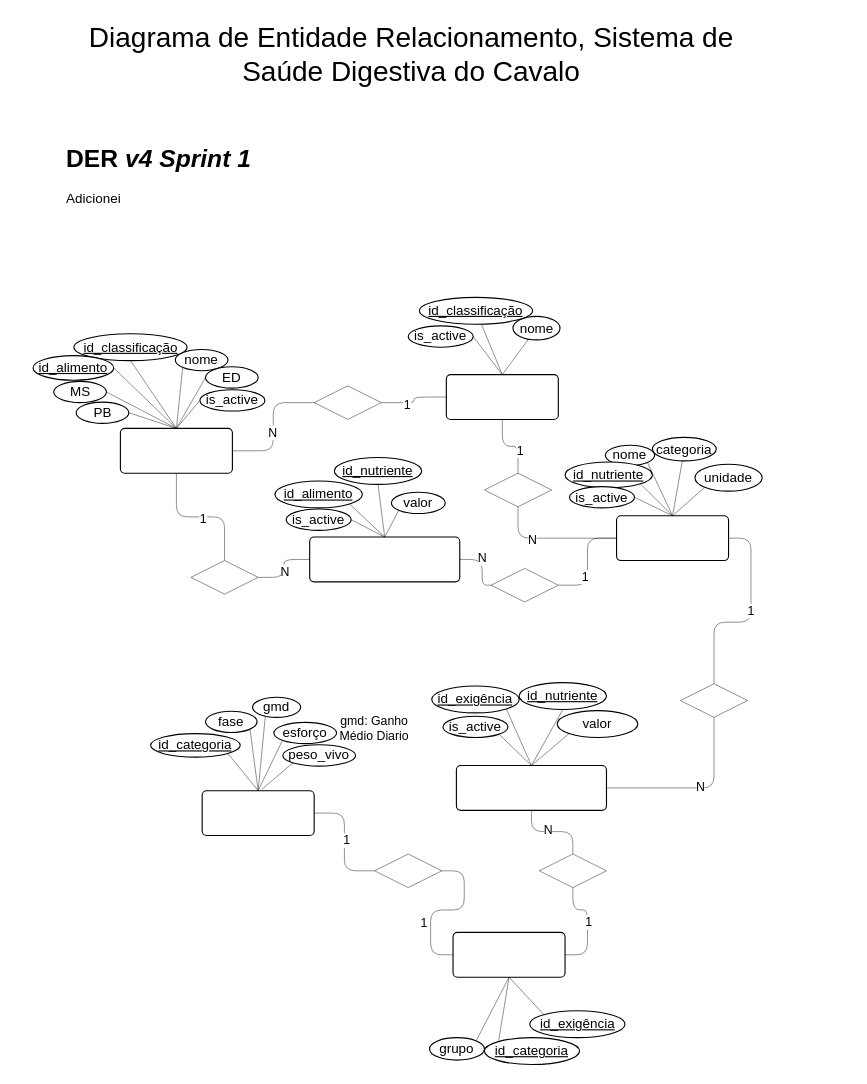
The diagram is 867 pixels wide and 1084 high, and some of its shapes have lost their labels. The shapes that lost their labels are listed below. From the top down, each one's box as (x1, y1, x2, y2) in pixels, then its label:
(445, 374, 558, 419): Classificação
(119, 427, 232, 473): Alimento
(615, 515, 729, 561): Nutriente
(309, 536, 460, 582): ComposiçãoAlimento
(455, 764, 606, 810): ComposiçãoExigência
(201, 790, 314, 836): Categoria Animal
(452, 931, 565, 977): Exigência
